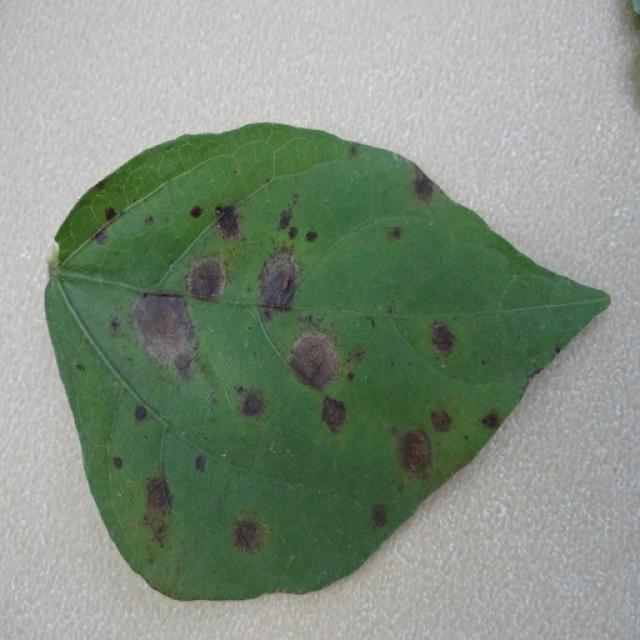Anthracnose: (128, 290, 197, 378), (287, 330, 343, 392), (256, 250, 302, 313), (186, 256, 228, 300), (397, 428, 434, 477), (314, 397, 352, 435), (230, 517, 263, 554), (144, 474, 173, 516), (213, 205, 243, 240), (429, 320, 457, 357), (410, 168, 436, 204), (142, 512, 169, 545), (239, 390, 266, 419), (521, 366, 546, 392), (407, 159, 430, 185), (429, 409, 453, 433), (371, 503, 389, 528), (480, 411, 501, 430), (277, 209, 294, 232), (175, 550, 190, 573), (93, 227, 110, 245), (133, 404, 149, 423), (103, 206, 118, 223), (386, 226, 403, 241), (108, 315, 122, 332), (194, 454, 207, 472), (386, 300, 400, 316), (189, 205, 204, 219), (261, 307, 273, 323), (305, 230, 318, 243), (112, 456, 124, 470), (347, 144, 359, 158), (94, 179, 107, 191), (366, 316, 376, 329), (144, 215, 154, 226), (234, 384, 245, 394), (74, 363, 86, 372), (214, 206, 223, 217), (554, 345, 562, 354), (147, 556, 155, 565), (141, 291, 148, 298), (480, 359, 486, 366), (463, 435, 468, 440)
Blackgram: (45, 124, 609, 599)
